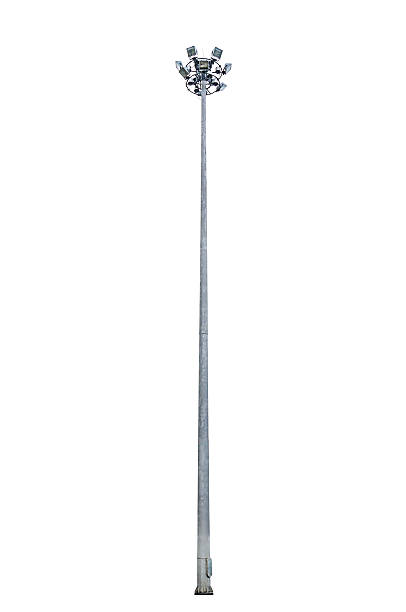light_pole: (190, 119, 212, 592)
